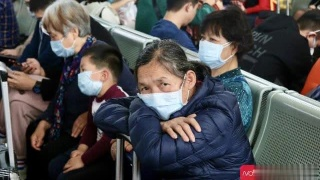mask: (134, 78, 186, 116), (76, 63, 104, 96), (46, 37, 81, 61), (198, 37, 225, 68)
